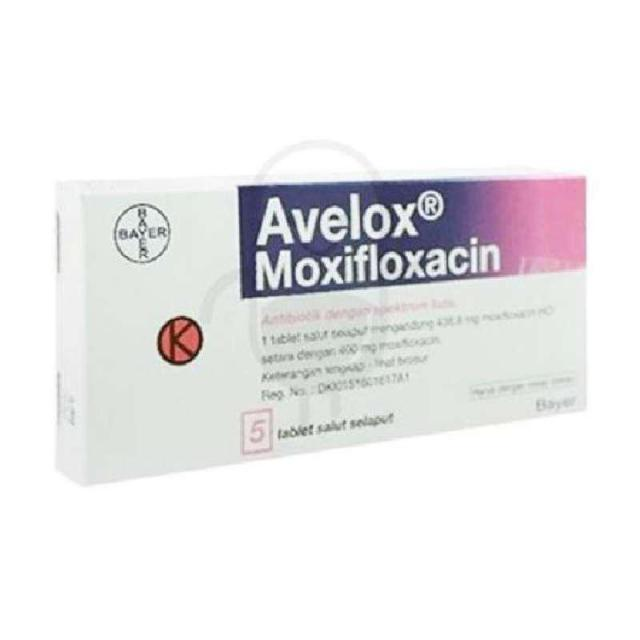drug-name: (251, 192, 423, 245)
